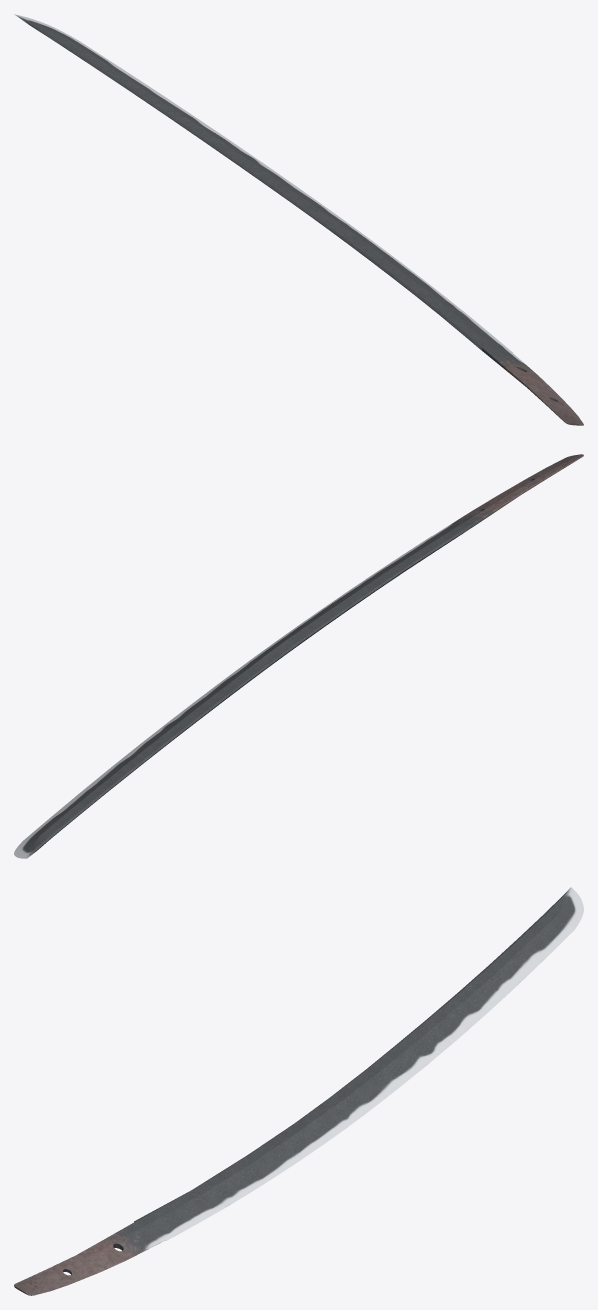
File: webvrkatana4-one.glb
The picture shows the model from 3 angles, top to bottom: view 1: azimuth 30°, elevation 25°; view 2: azimuth 150°, elevation 25°; view 3: azimuth 330°, elevation 25°; orthographic projection.
Visible parts, largest first — view 1: tousin.002; view 2: tousin.002; view 3: tousin.002.
Part boxes in pixels (box(x1,y1,x2,y2)): tousin.002: box(14, 14, 583, 425); tousin.002: box(14, 454, 583, 858); tousin.002: box(14, 887, 583, 1295).
Size of the model in its own units: 9.48 by 3.33 by 139.
Materials: 1 (1 with a texture image).
